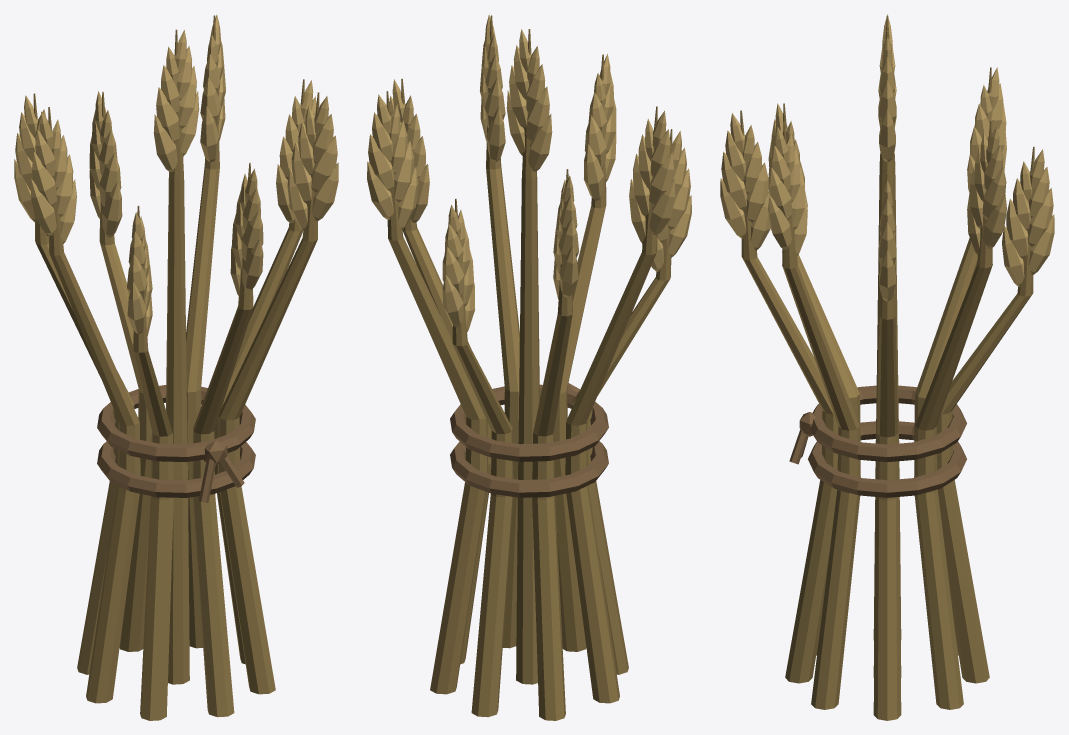
3 views of the same model, side by side, from view 1: azimuth 30°, elevation 25°; view 2: azimuth 150°, elevation 25°; view 3: azimuth 270°, elevation 25° (orthographic).
Visible parts, largest first — view 1: village-tied-grain-sheaf-01; view 2: village-tied-grain-sheaf-01; view 3: village-tied-grain-sheaf-01.
Part boxes in pixels (x1=…): village-tied-grain-sheaf-01: x1=14, y1=14, x2=338, y2=720; village-tied-grain-sheaf-01: x1=367, y1=14, x2=691, y2=720; village-tied-grain-sheaf-01: x1=720, y1=14, x2=1054, y2=720.
Size of the model in its own units: 0.3396 by 0.724 by 0.3396.
